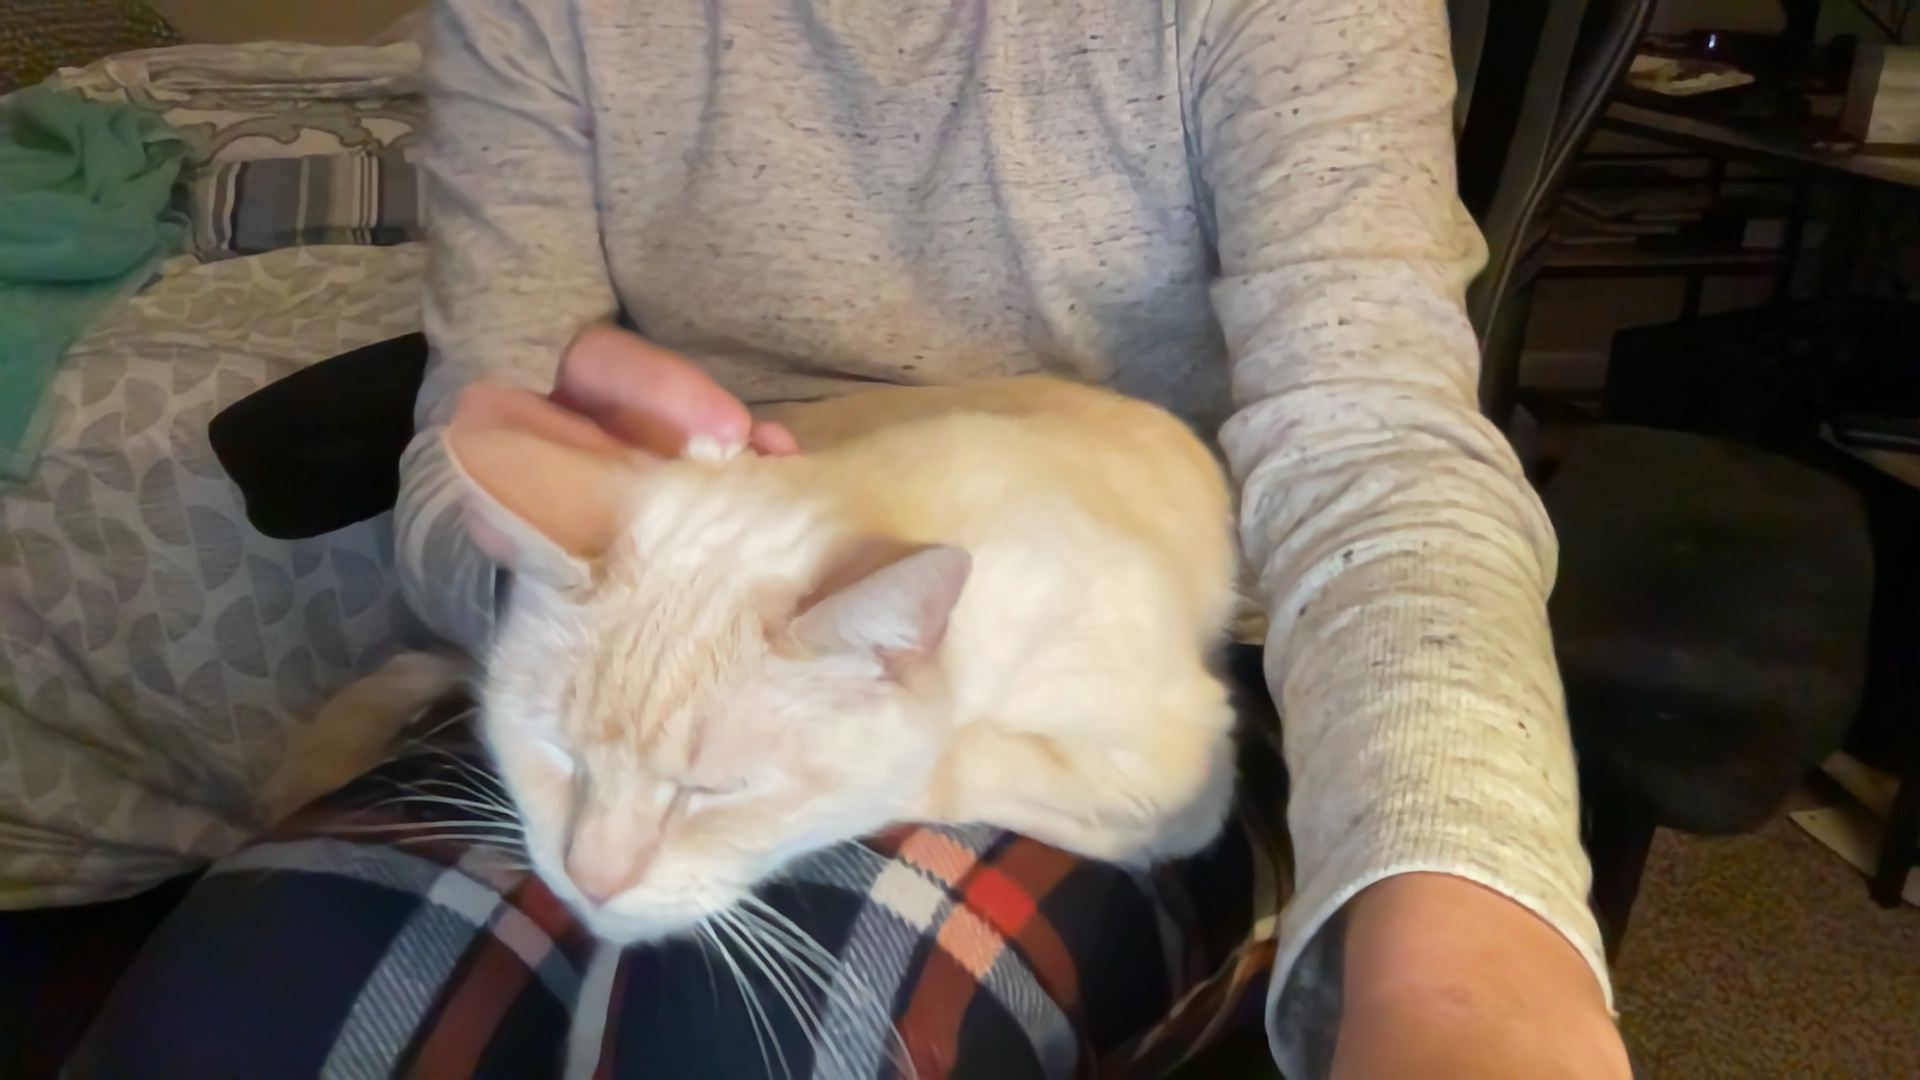cat: (433, 320, 1249, 975)
